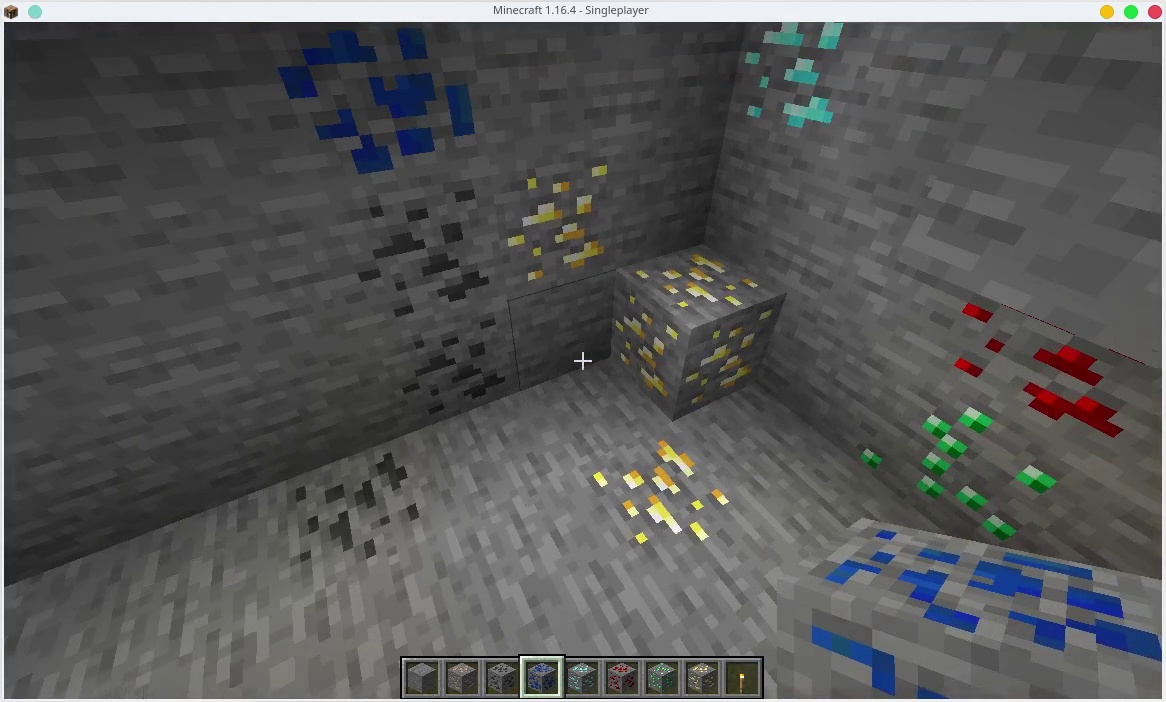gold: (615, 253, 767, 410), (587, 438, 738, 554), (497, 158, 611, 287), (687, 660, 719, 697)
